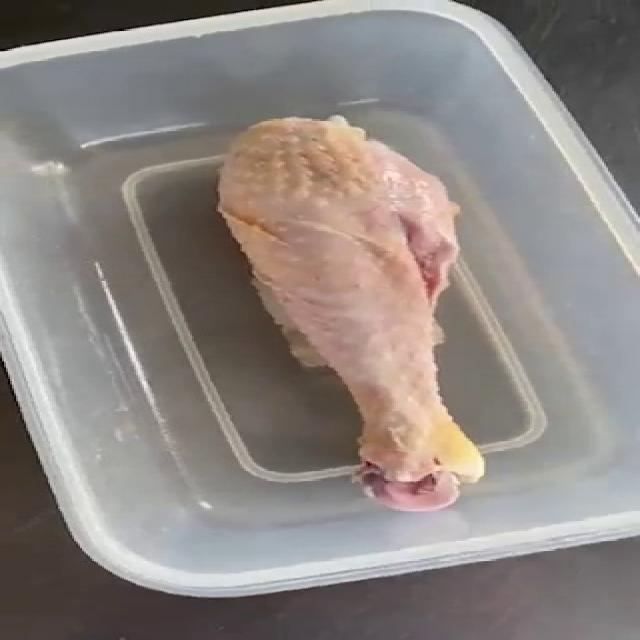chicken: (216, 115, 488, 511)
